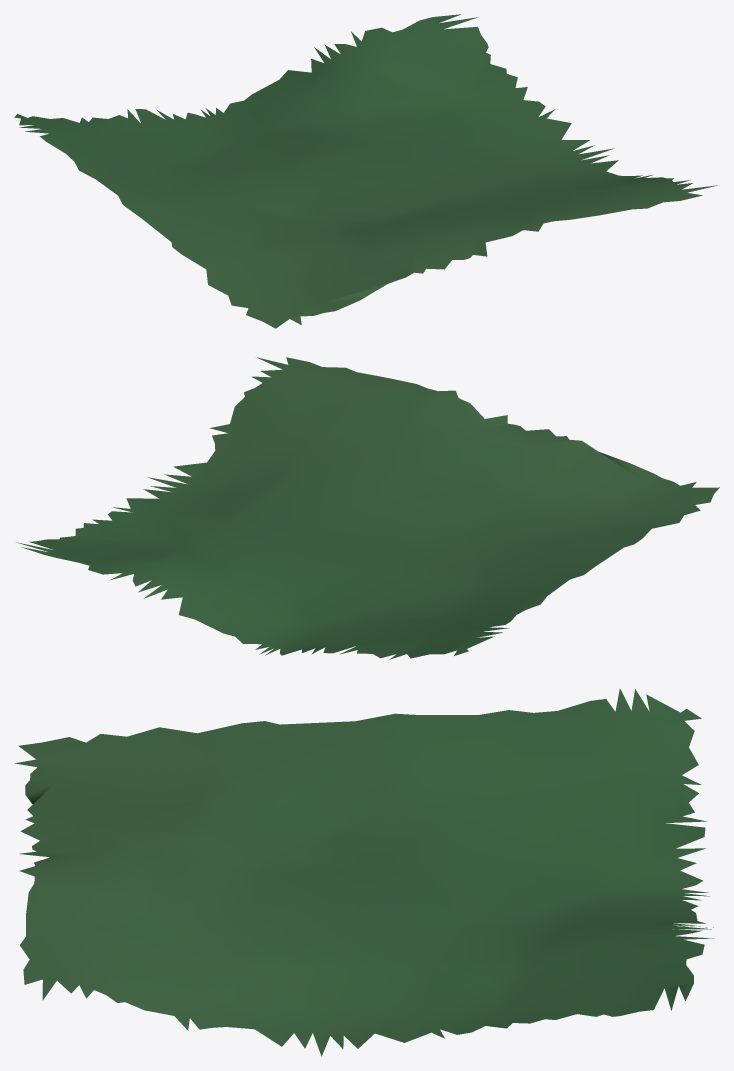
Rendered from payo_land_x2_y8_lod2.glb.
The picture shows the model from 3 angles, top to bottom: view 1: azimuth 30°, elevation 25°; view 2: azimuth 150°, elevation 25°; view 3: azimuth 270°, elevation 25°; orthographic projection. The views are drawn at different scales.
Visible parts, largest first — view 1: payo_land_x2_y8; view 2: payo_land_x2_y8; view 3: payo_land_x2_y8.
Boxes of the visible parts, x1,y1,x2,y2 form: payo_land_x2_y8: (14, 14, 719, 328); payo_land_x2_y8: (16, 357, 719, 659); payo_land_x2_y8: (15, 689, 714, 1056).
Size of the model in its own units: 278 by 30.02 by 272.
